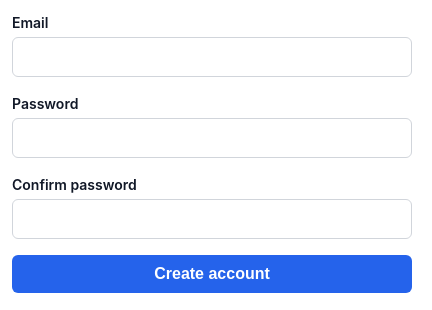
Test case: RegistrationForm › shows loading state while submitting
The image size is (432, 310).
In the field labelled "Email": (212, 57) [12,37,412,77], type "new@example.com"
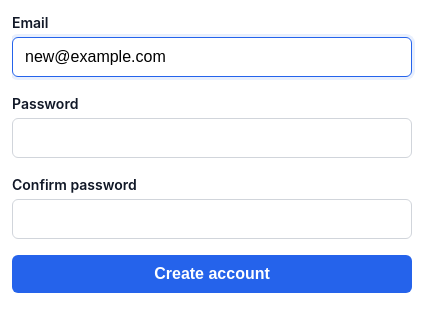
In the password field labelled "Password": (212, 138) [12,118,412,158], type "password123"
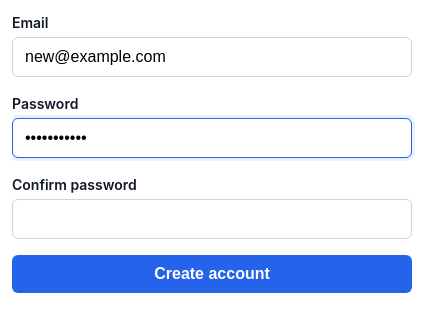
In the password field labelled "Confirm password": (212, 219) [12,199,412,239], type "password123"
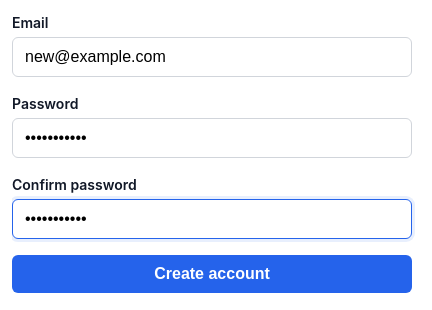
Click the button "Create account": (212, 274) [12,255,412,293]
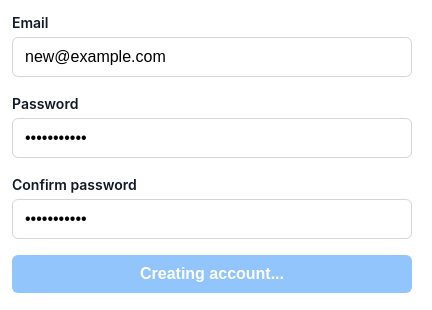
Result: the button "Creating account..." is disabled at [12,255,412,293]
